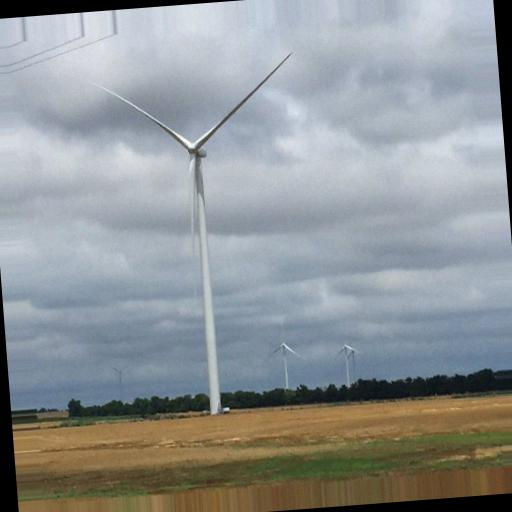wind turbine: (86, 52, 288, 408), (266, 318, 306, 405)
